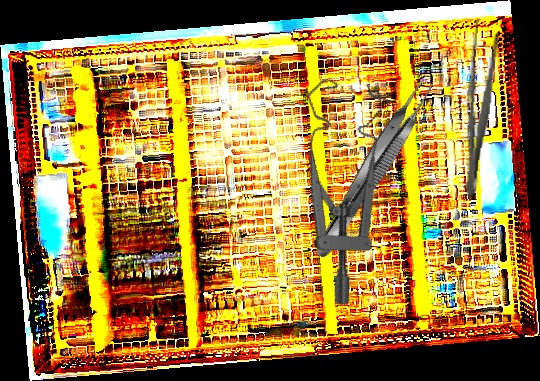Dressing Forceps: (456, 18, 502, 198)
Speculum: (234, 64, 435, 310)
Tissue Forceps: (306, 73, 441, 264)
